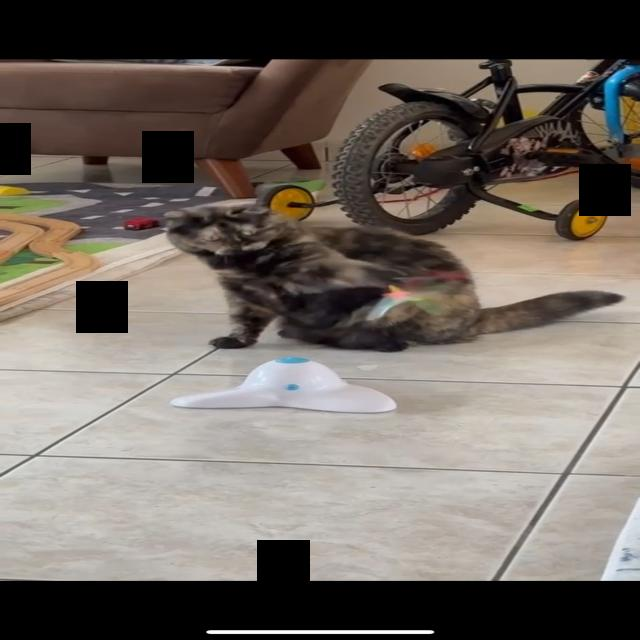authorized: (160, 198, 624, 353)
